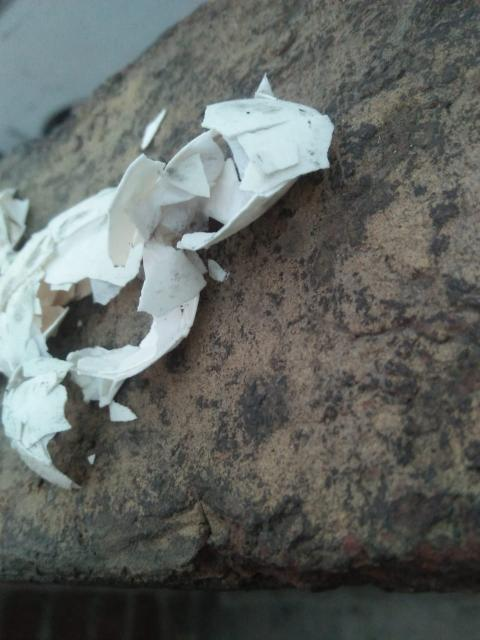Roto: (1, 107, 222, 484), (156, 71, 332, 254)
